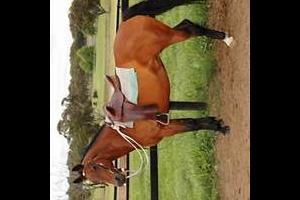horse: (71, 0, 236, 187)
